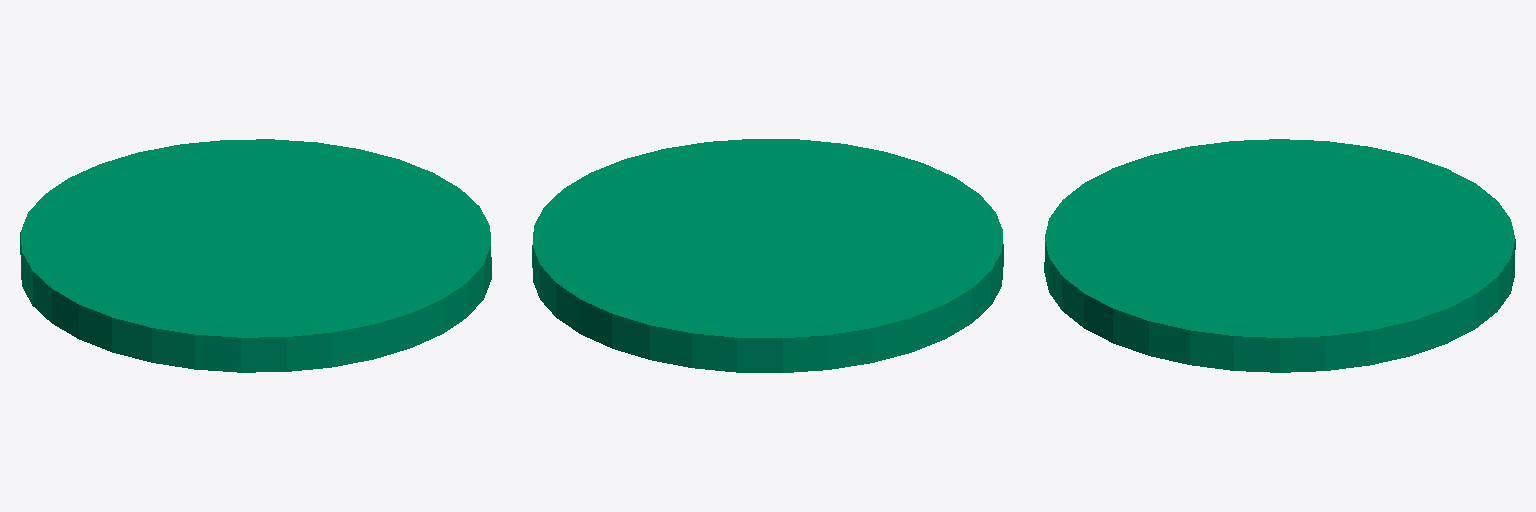
robot.urdf — fake_valve:
<?xml version="1.0" ?>
<!-- =================================================================================== -->
<!-- |    This document was autogenerated by xacro from fake_valve.urdf.xacro          | -->
<!-- |    EDITING THIS FILE BY HAND IS NOT RECOMMENDED                                 | -->
<!-- =================================================================================== -->
<robot name="fake_valve">
  <link name="world">
   </link>
  <joint name="valve_base_joint" type="fixed">
    <origin rpy="3.14 0.0 0.0" xyz="0.0 0.0 0.5"/>
    <parent link="world"/>
    <child link="valve_base"/>
  </joint>
  <link name="valve_base">
    <inertial>
      <mass value="0.01"/>
      <origin rpy="0 0 0" xyz="0 0 0.0"/>
      <inertia ixx="0.000001" ixy="0.0" ixz="0.0" iyy="0.000001" iyz="0.0" izz="0.000001"/>
    </inertial>
  </link>
  <link name="wheel">
    <contact>
      <friction_anchor/>
      <stiffness value="30000.0"/>
      <damping value="1000.0"/>
      <spinning_friction value="0.1"/>
      <lateral_friction value="1.0"/>
    </contact>
    <inertial>
      <origin rpy="0 0 0" xyz="0 0 0"/>
      <mass value="1.0"/>
      <!-- Inertia of a torus radius = 0.12 and cross section radius 0.02-->
      <inertia ixx="0.00745" ixy="0.0" ixz="0.0" iyy="0.0147" iyz="0.0" izz="0.00745"/>
    </inertial>
    <!--collision>
      <origin xyz="0 0 0" rpy="0 0 0"/>
      <geometry>
        <cylinder radius="0.1225" length="0.02"/>
      </geometry>
    </collision-->
    <visual>
      <origin rpy="0 0 0" xyz="0 0 0"/>
      <geometry>
        <cylinder length="0.02" radius="0.1225"/>
      </geometry>
    </visual>
  </link>
  <joint name="wheel_joint" type="continuous">
    <origin rpy="0.0 0 0" xyz="0 0 0"/>
    <axis rpy="0 0 0" xyz="0 0 1"/>
    <parent link="valve_base"/>
    <child link="wheel"/>
    <dynamics damping="10.0" friction="10.0"/>
    <limit effort="30" lower="-3.14" upper="3.14" velocity="1.0"/>
  </joint>
  <!-- Gazebo simulation -->
  <transmission name="wheel_joint_transmission">
    <type>transmission_interface/SimpleTransmission</type>
    <joint name="wheel_joint">
      <hardwareInterface>hardware_interface/EffortJointInterface</hardwareInterface>
    </joint>
    <actuator name="wheel_joint_motor">
      <mechanicalReduction>1</mechanicalReduction>
    </actuator>
  </transmission>
  <gazebo>
    <plugin filename="libgazebo_ros_control.so" name="gazebo_ros_control">
      <legacyModeNS>true</legacyModeNS>
      <robotParam>valve_description</robotParam>
      <robotNamespace>valve</robotNamespace>
    </plugin>
  </gazebo>
</robot>

--- Facts derived from the render (not from the file) ---
3 views of the same robot in one strip: view 1: azimuth 30°, elevation 25°; view 2: azimuth 150°, elevation 25°; view 3: azimuth 270°, elevation 25° (orthographic).
Model fake_valve with 3 links and 2 joints (1 continuous, 1 fixed), rooted at world, posed every joint at zero.
Visible links, largest first — view 1: wheel; view 2: wheel; view 3: wheel.
Link boxes in pixels (box(x1,y1,x2,y2)): wheel: box(20, 139, 491, 372); wheel: box(532, 139, 1003, 372); wheel: box(1044, 139, 1515, 372).
Bounding box of the posed robot: 0.245 × 0.245 × 0.0204 m (x, y, z).
Geometry: primitives only (box / cylinder / sphere), no mesh files.